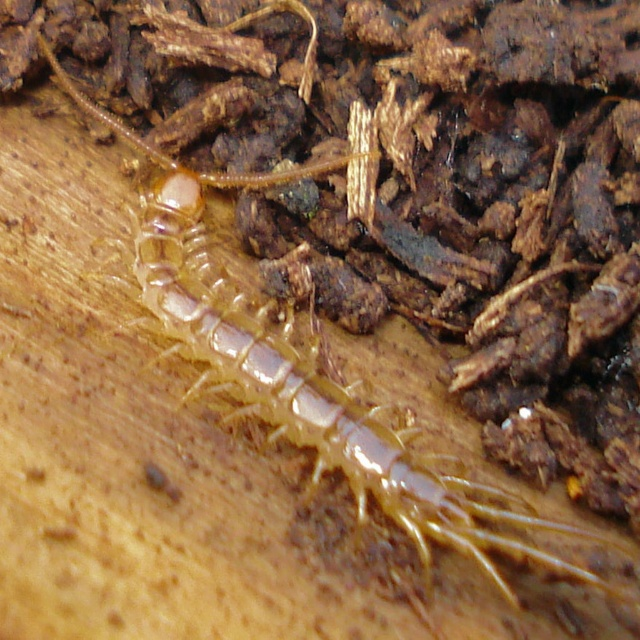Centipede: (40, 35, 614, 617)
